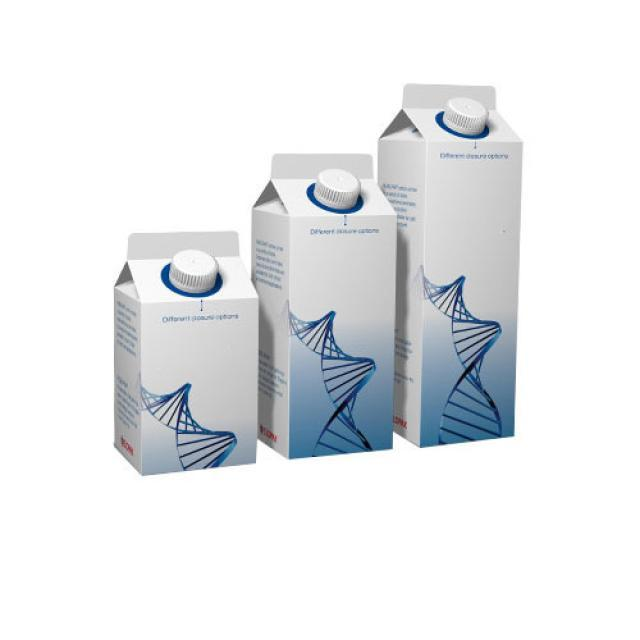Carton: (364, 60, 533, 475), (245, 140, 411, 480), (102, 215, 266, 496)
